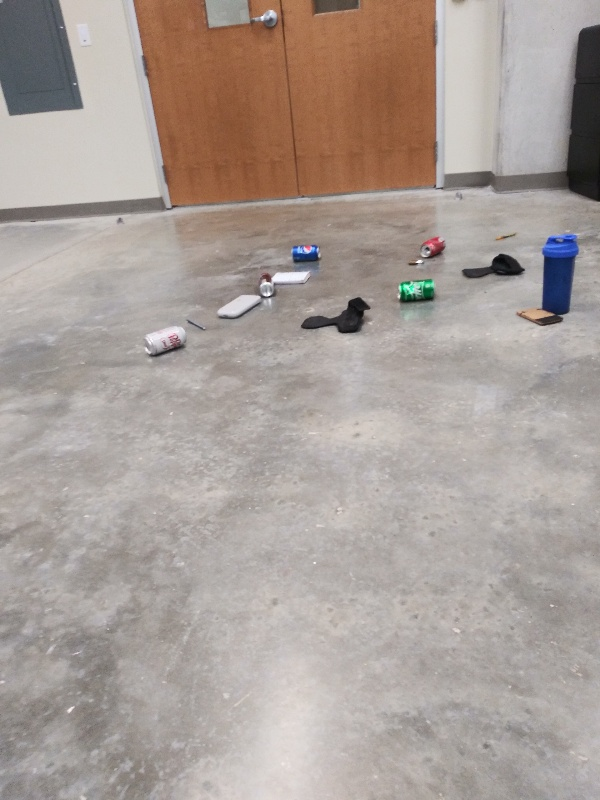can: (140, 322, 189, 362), (395, 275, 439, 306), (288, 241, 326, 263), (418, 233, 447, 261), (254, 269, 277, 301)
